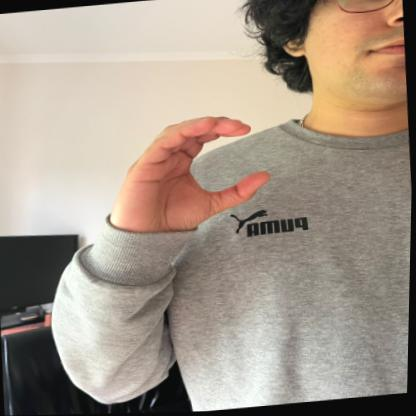C: (111, 109, 282, 238)
